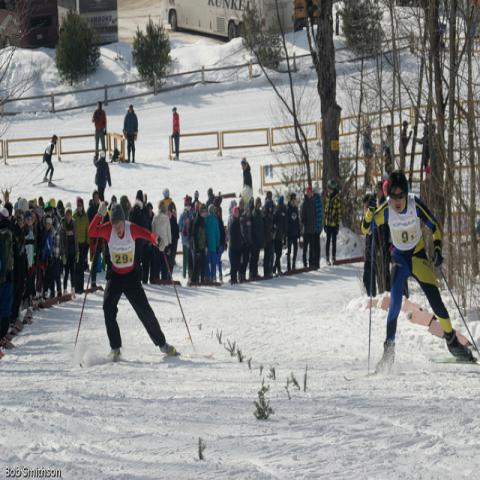bus: (161, 0, 294, 42), (0, 0, 59, 51), (57, 0, 120, 43)
